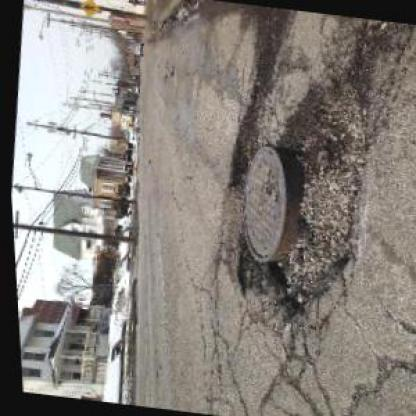pothole: (216, 65, 387, 326), (218, 110, 265, 192)
